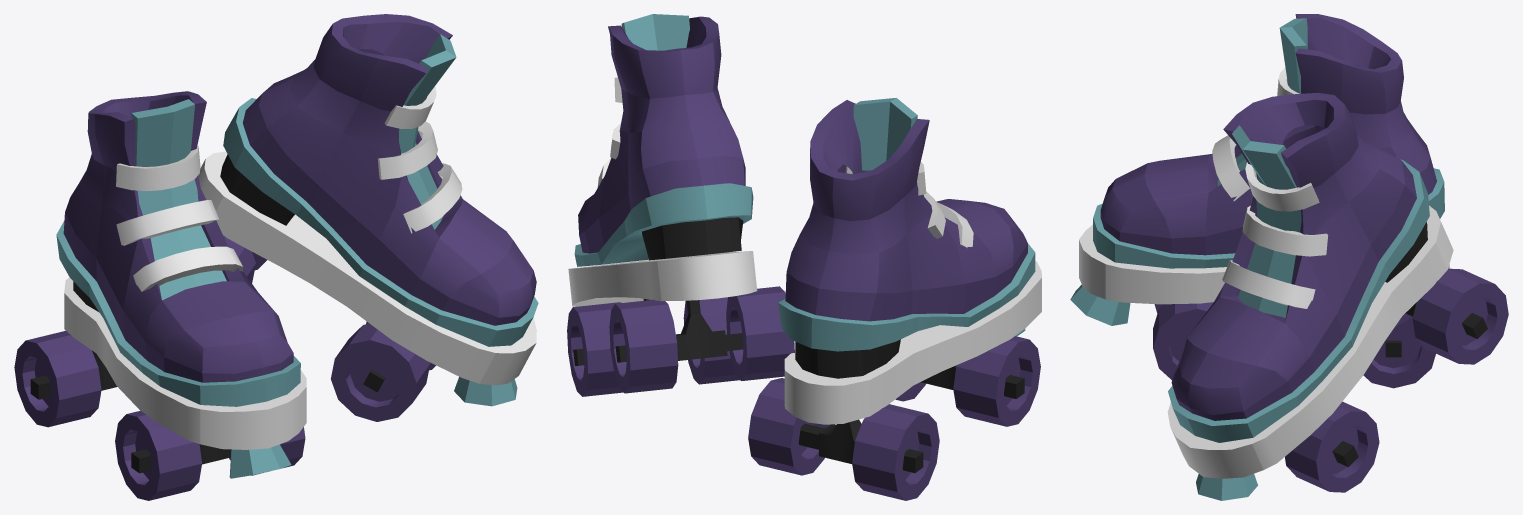
File: skates.fbx
The picture shows the model from 3 angles, left to right: view 1: azimuth 30°, elevation 25°; view 2: azimuth 150°, elevation 25°; view 3: azimuth 270°, elevation 25°; orthographic projection. The views are drawn at different scales.
Visible parts, largest first — view 1: skates; view 2: skates; view 3: skates.
Part boxes in pixels (left/top/right/bottom): skates: left=14, top=14, right=538, bottom=500; skates: left=567, top=14, right=1041, bottom=500; skates: left=1070, top=14, right=1508, bottom=500.
Bounding box in the file's own units: 0.2802 × 0.2308 × 0.2612.
